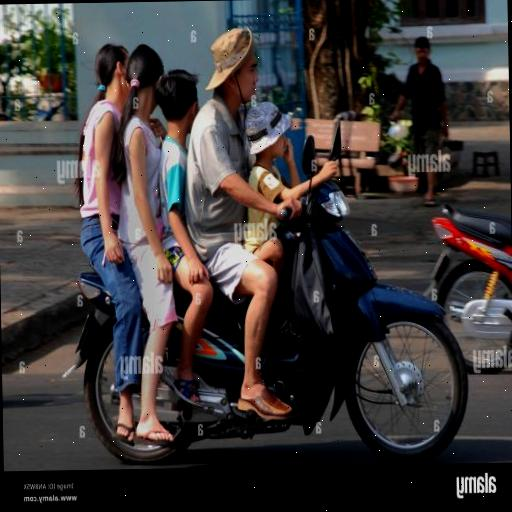no helmet: (195, 30, 277, 153)
triple riding: (58, 16, 475, 466)
